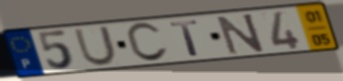4: (269, 9, 302, 51)
5: (36, 28, 78, 72)
C: (124, 21, 171, 64)
N: (215, 12, 268, 56)
T: (168, 19, 203, 58)
U: (72, 24, 119, 67)
